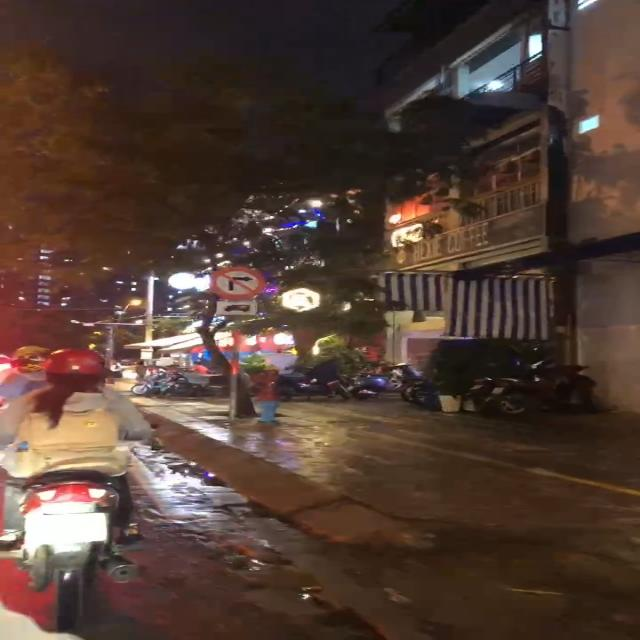Bien bao cam re phai: (206, 266, 267, 300)
